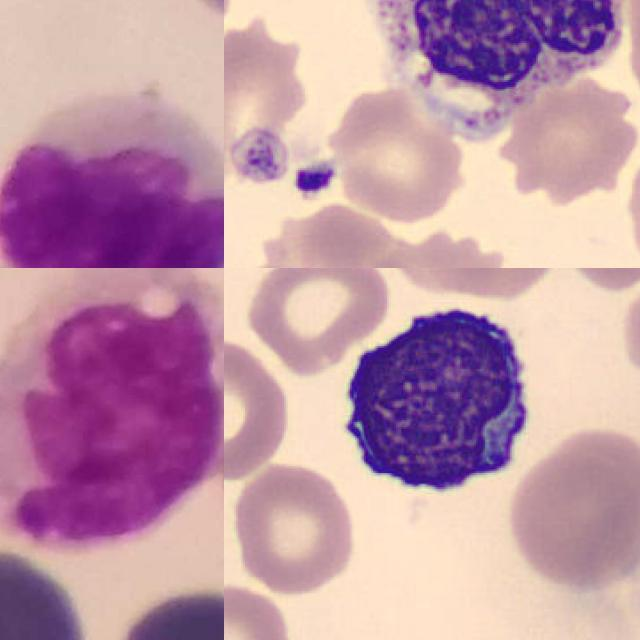Lymphocyte: (327, 290, 542, 515)
Monocyte: (0, 268, 224, 554), (339, 0, 640, 150), (0, 91, 224, 268)
Platelets: (227, 124, 289, 188), (289, 158, 339, 198)
RBC: (503, 423, 640, 596), (321, 84, 474, 227), (224, 9, 331, 189), (227, 459, 361, 598), (241, 268, 392, 374), (224, 332, 294, 482), (387, 268, 565, 304), (224, 582, 295, 640), (227, 124, 291, 188)
